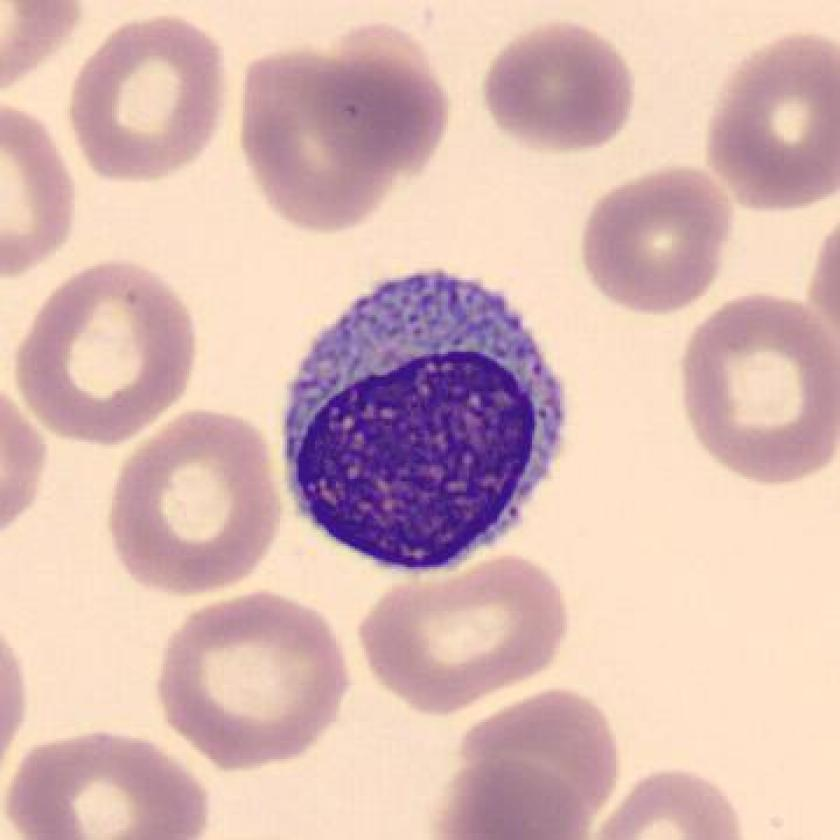lymphocyte: (258, 256, 594, 594)
